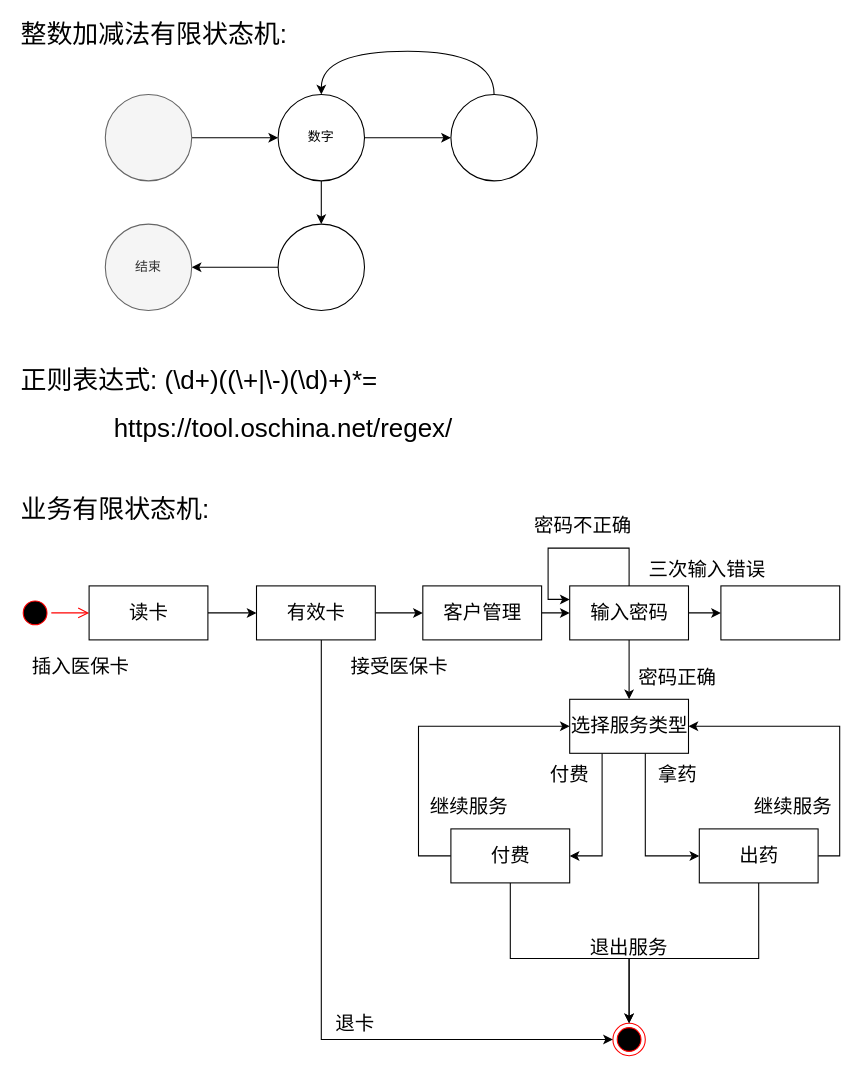
Some shapes in this 867 by 1075 pixel diagram are drawn without their labels. Each missing label, with the centre of its shape:
"吞卡" belongs at [780,612].
"开始" belongs at [148,137].
"符号 (+ , - )" belongs at [493,137].
"等于" belongs at [320,266].
